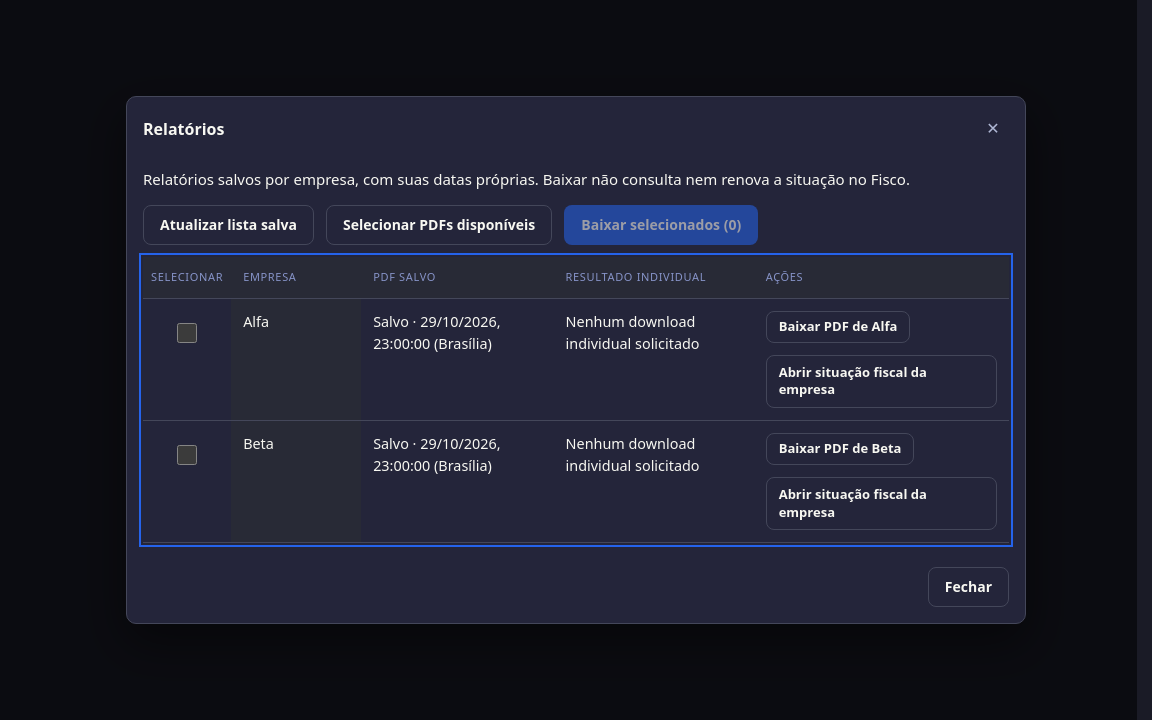
Test case: abrir e selecionar só lê; lote usa um ZIP e informa comPdf sem inventar resultados individuais
This screenshot has width=1152, height=720.
Click the button "Selecionar PDFs disponíveis": {"x": 439, "y": 225} x1=326 y1=205 x2=552 y2=245
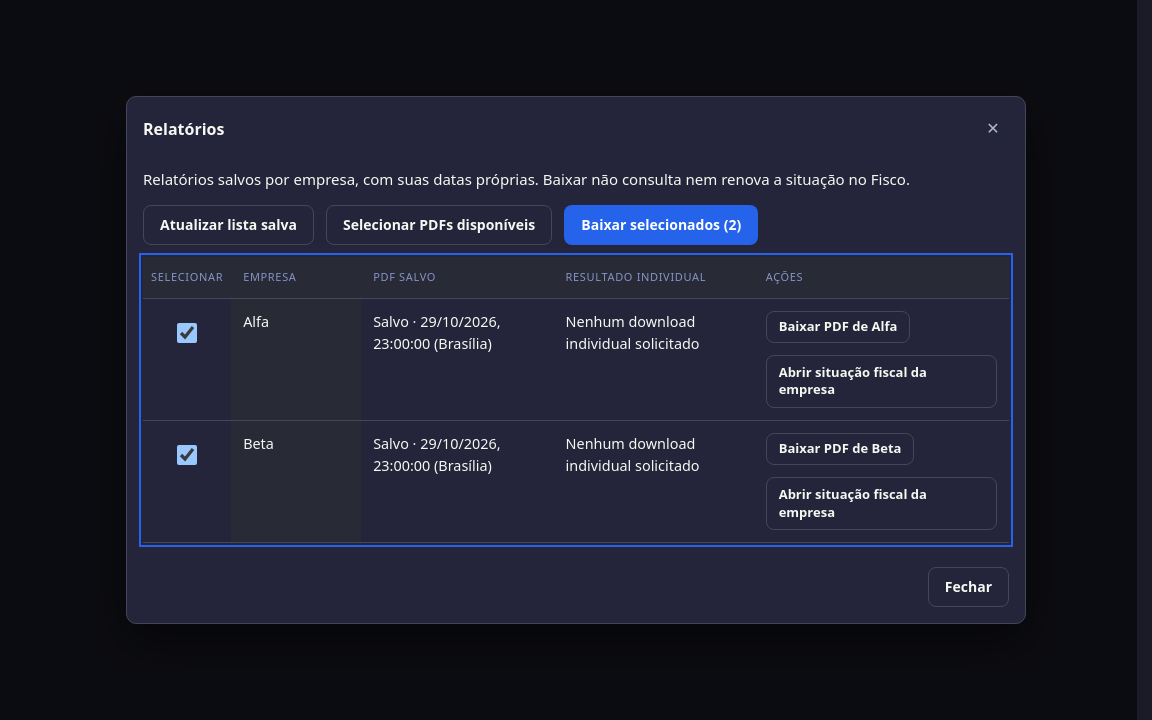
Click the button "Baixar selecionados (2)": {"x": 661, "y": 225} x1=564 y1=205 x2=758 y2=245
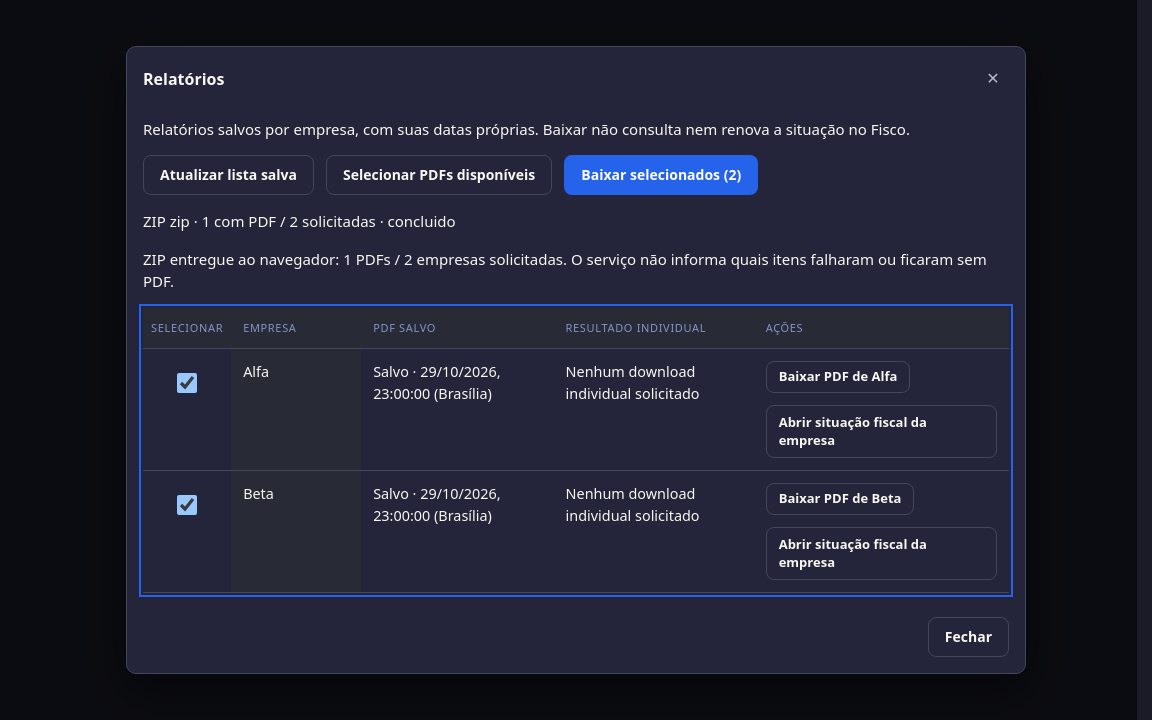
Check: the text "ZIP entregue ao navegador: 1 PDFs / 2 empresas" is shown, box x1=143 y1=249 x2=987 y2=291
